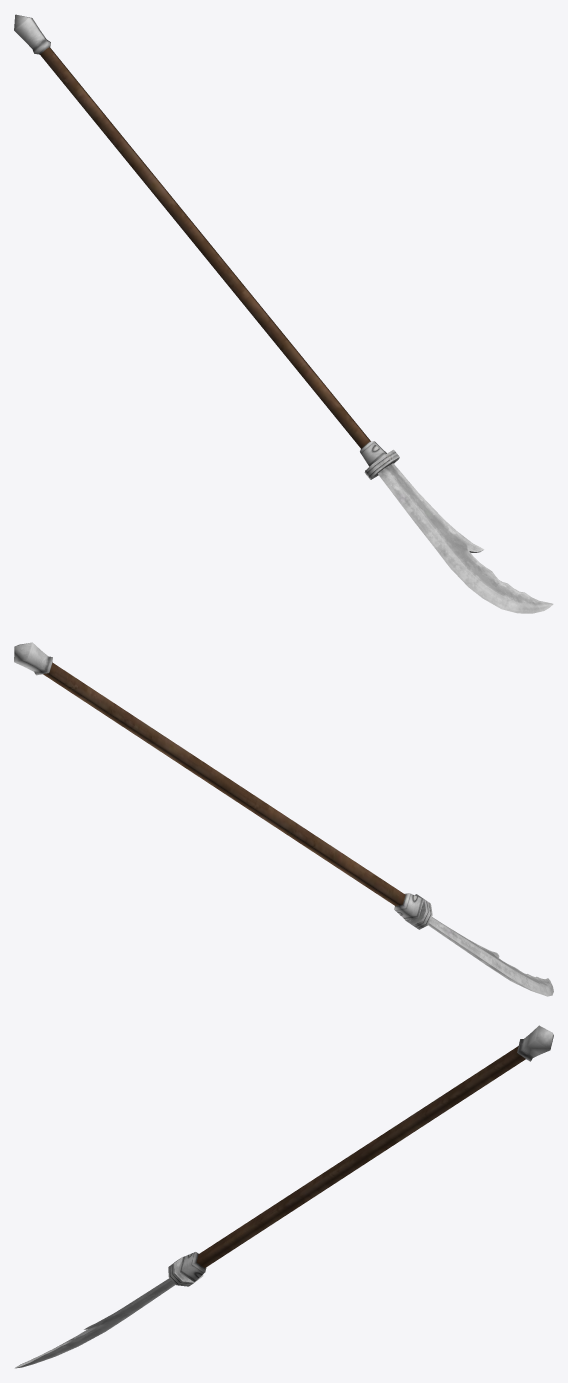
Rendered from rider-weapon-slice-copperweapons.glb.
3 renders of one model, top to bottom at view 1: azimuth 90°, elevation 25°; view 2: azimuth 150°, elevation 25°; view 3: azimuth 270°, elevation 25°, orthographic.
Bounding box in the file's own units: 1.09 × 1.68 × 1.76.
Materials: 1 (1 with a texture image).
